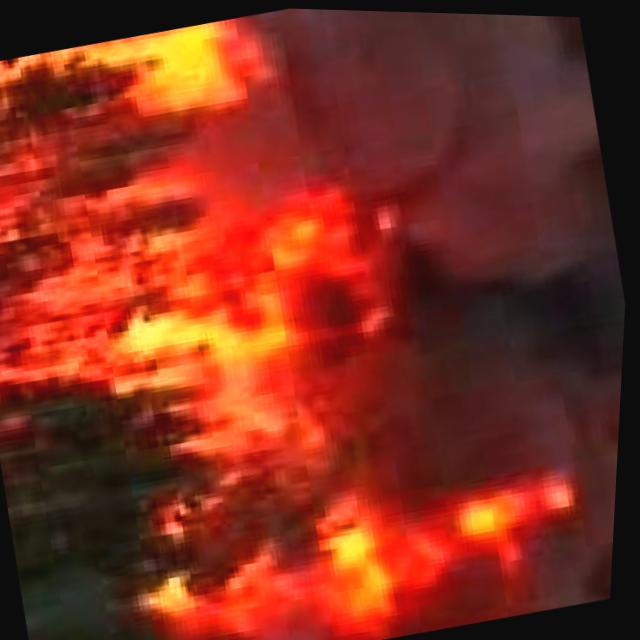fire: (0, 0, 397, 455), (140, 426, 623, 640)
